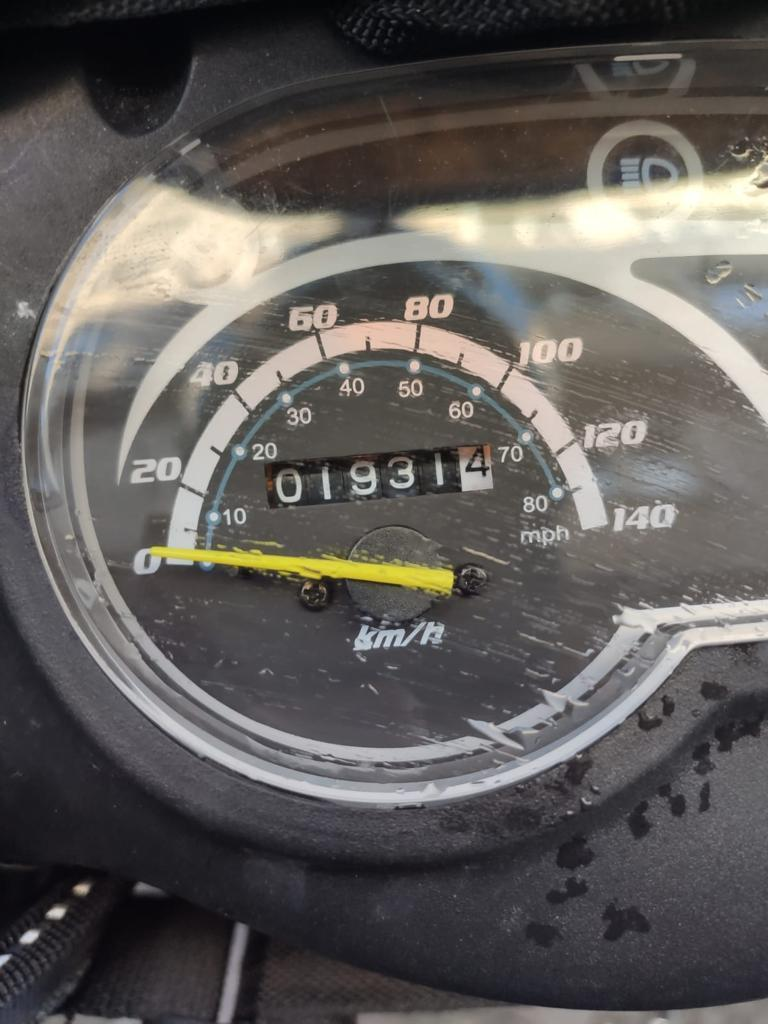0: (272, 465, 304, 503), (263, 440, 277, 459)
1: (429, 449, 448, 487), (316, 462, 334, 502)
3: (384, 454, 417, 490)
4: (463, 445, 490, 477)
9: (346, 458, 378, 496)
odometer: (260, 437, 498, 513)
